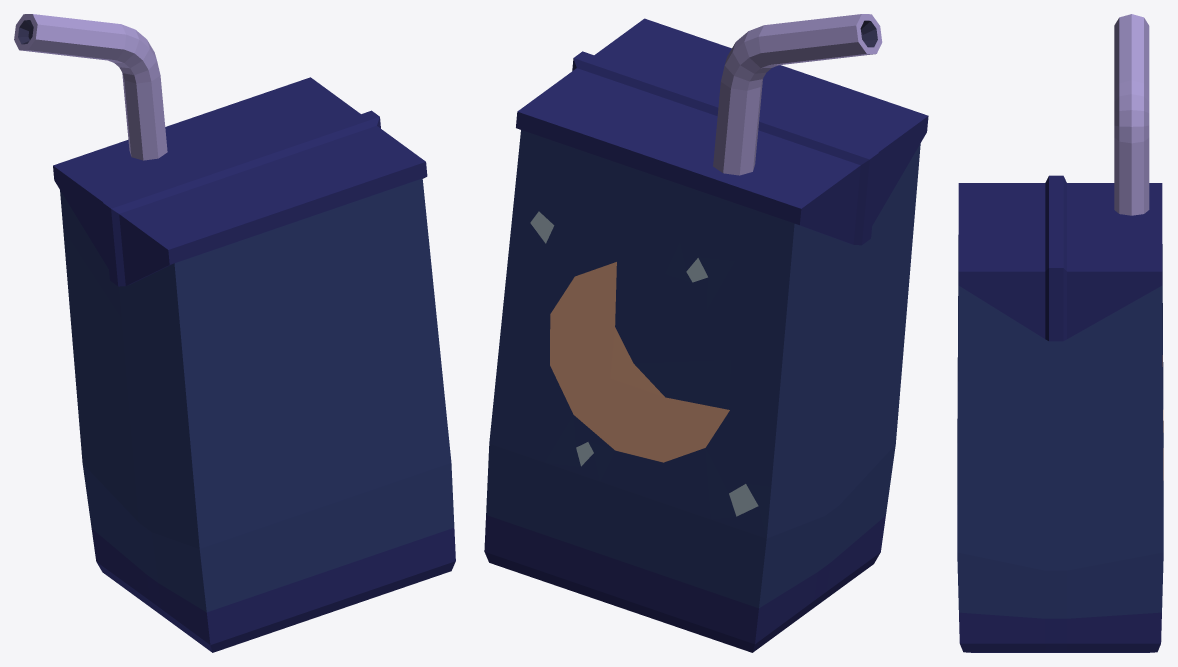
Rendered from FrootBox.NightFroot.fbx.
3 renders of one model, left to right at view 1: azimuth 30°, elevation 25°; view 2: azimuth 150°, elevation 25°; view 3: azimuth 270°, elevation 25°, orthographic. The views are drawn at different scales.
Parts seen in each view (by area): view 1: FrootBox.NightFroot; view 2: FrootBox.NightFroot; view 3: FrootBox.NightFroot.
Boxes of the visible parts, x1,y1,x2,y2 form: FrootBox.NightFroot: [14, 14, 455, 652]; FrootBox.NightFroot: [484, 14, 928, 652]; FrootBox.NightFroot: [957, 14, 1163, 652].
Bounding box in the file's own units: 47.22 × 78.87 × 28.23.
